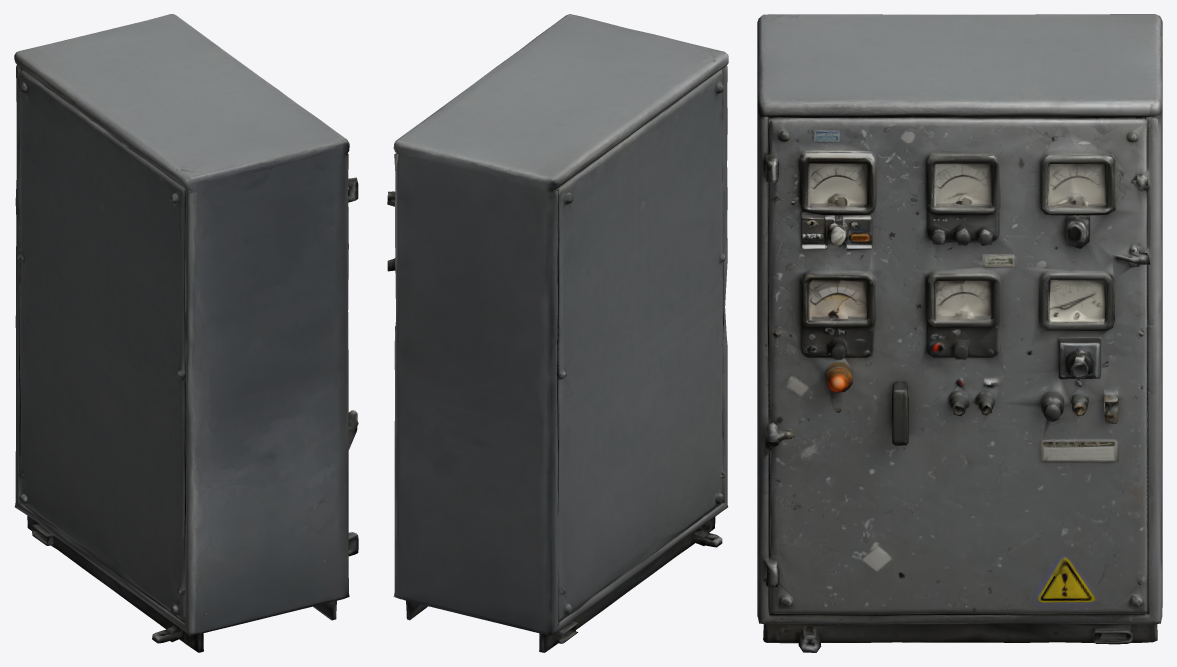
File: elec_cabinet.glb
3 renders of one model, left to right at view 1: azimuth 30°, elevation 25°; view 2: azimuth 150°, elevation 25°; view 3: azimuth 270°, elevation 25°, orthographic. The views are drawn at different scales.
Parts seen in each view (by area): view 1: tripo_node_99256ab6-d11c-4b58-808a-6bdbf3fc08ae; view 2: tripo_node_99256ab6-d11c-4b58-808a-6bdbf3fc08ae; view 3: tripo_node_99256ab6-d11c-4b58-808a-6bdbf3fc08ae.
Part boxes in pixels (bbox=[...]): tripo_node_99256ab6-d11c-4b58-808a-6bdbf3fc08ae: bbox=[14, 14, 358, 652]; tripo_node_99256ab6-d11c-4b58-808a-6bdbf3fc08ae: bbox=[387, 14, 728, 652]; tripo_node_99256ab6-d11c-4b58-808a-6bdbf3fc08ae: bbox=[757, 14, 1162, 652].
Bounding box in the file's own units: 0.434 × 0.9786 × 0.657.
1 material, 1 textured.
